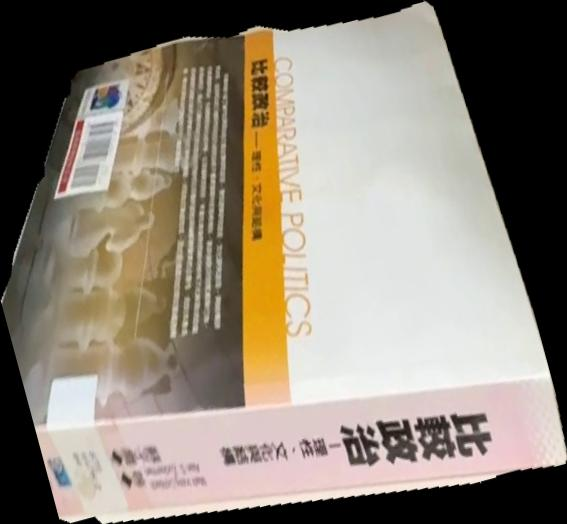flat: (1, 1, 567, 524)
